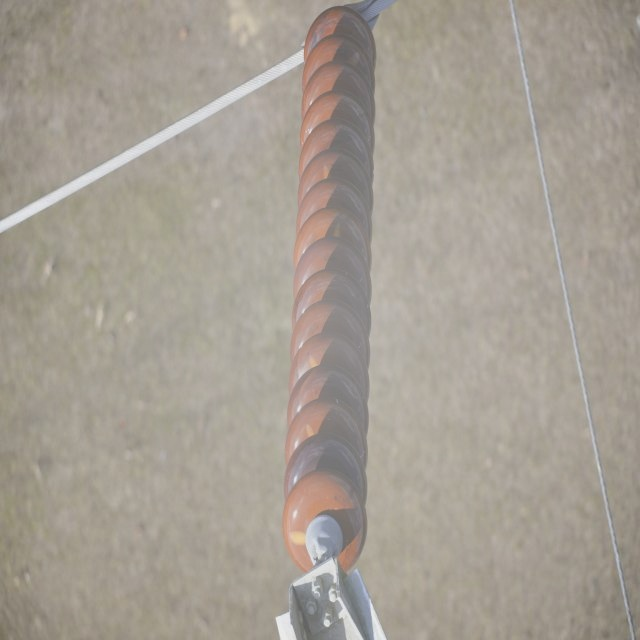insulator: (284, 8, 378, 577)
